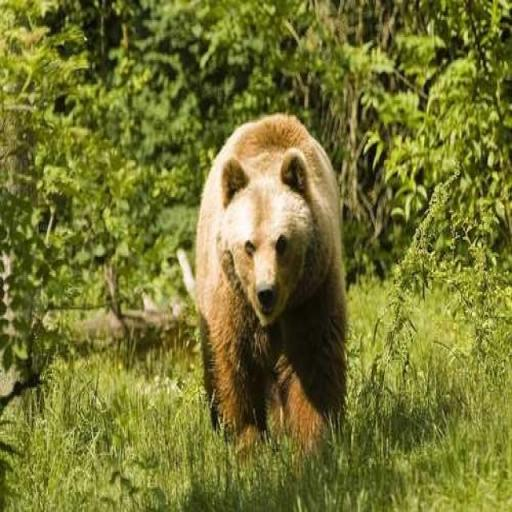Bear: (194, 110, 348, 456)
